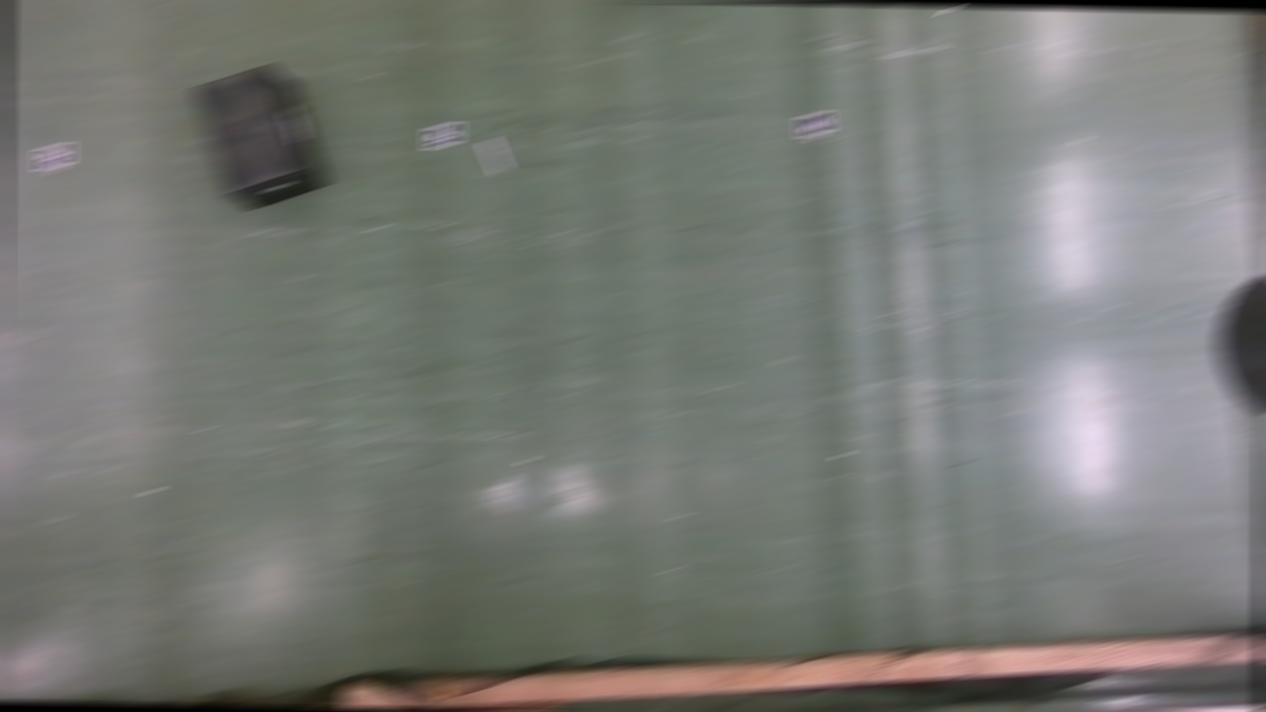probes: (481, 140, 509, 176)
rako: (189, 65, 329, 212)
